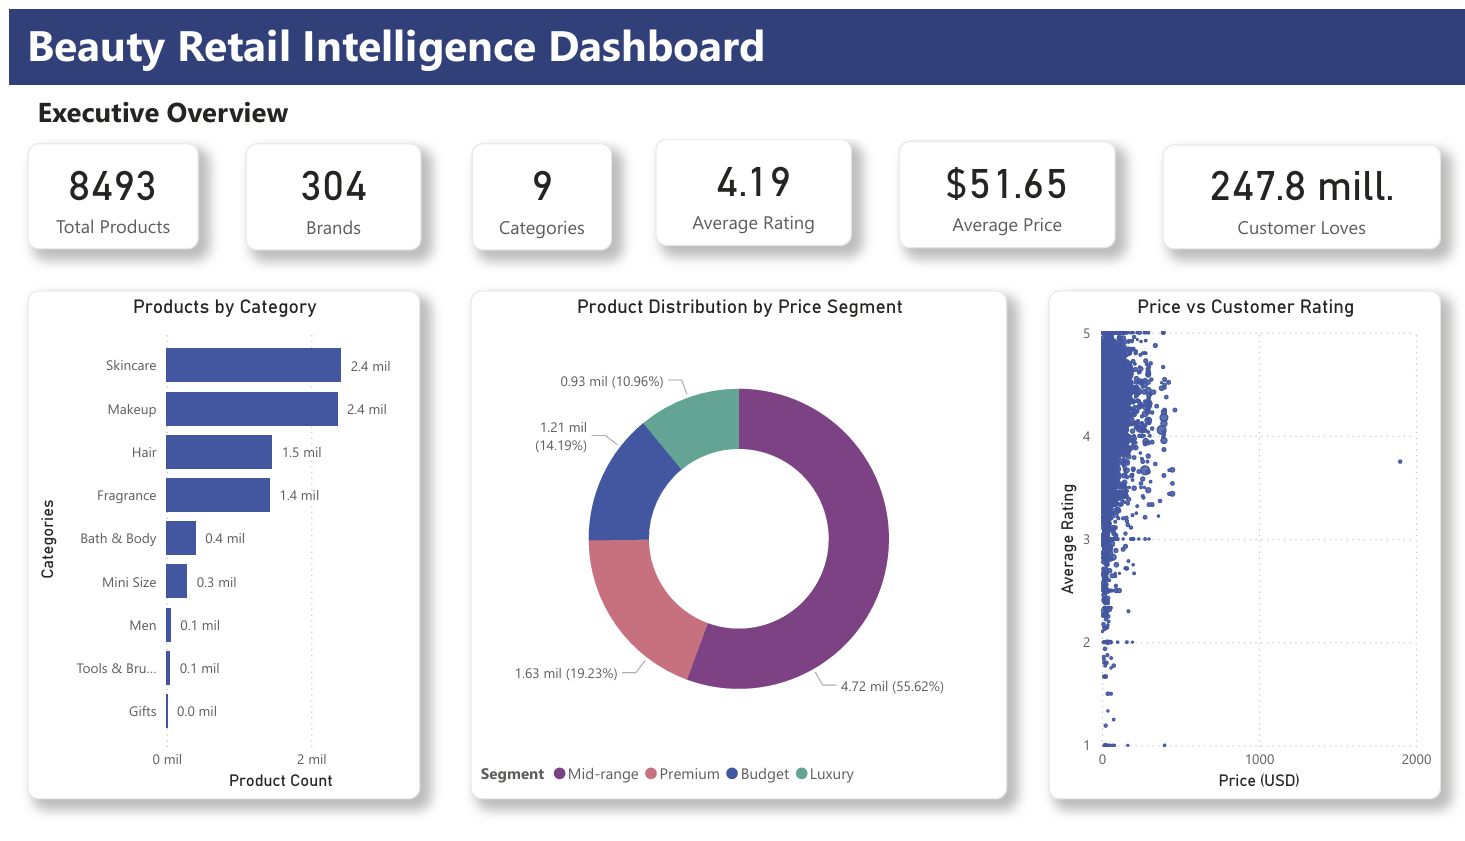

Layout of this report page (visuals, bound fields, positions):
{"tool":"powerbi","page":{"name":"Executive Overview","canvas":[1280,720],"ordinal":0},"visuals":[{"type":"card","fields":{"Values":["Count(products_engineered.product_id)"]},"box":[15.7,117,150,92.9],"z":0},{"type":"card","fields":{"Values":["Count(products_engineered.brand_name)"]},"box":[206.6,117.3,154,94],"z":1000},{"type":"card","fields":{"Values":["Count(products_engineered.primary_category)"]},"box":[404.6,117.3,123.8,93.8],"z":2000},{"type":"card","fields":{"Values":["Avg(products_engineered.rating)"]},"box":[566.3,113.3,172,94],"z":3000},{"type":"card","fields":{"Values":["Avg(products_engineered.price_usd)"]},"box":[779.1,114.8,190,94],"z":4000},{"type":"card","fields":{"Values":["Sum(products_engineered.loves_count)"]},"box":[1010,117.6,244,92],"z":5000},{"type":"barChart","title":"Products by Category","fields":{"Category":["products_engineered.primary_category"],"Y":["CountNonNull(products_engineered.product_id)"]},"box":[16,246,344,446],"z":6000},{"type":"donutChart","title":"Product Distribution by Price Segment","fields":{"Category":["products_engineered.price_segment"],"Y":["CountNonNull(products_engineered.product_id)"]},"box":[404,246,470,446],"z":7000},{"type":"scatterChart","title":"Price vs Customer Rating","fields":{"X":["products_engineered.price_usd"],"Y":["products_engineered.rating"],"Size":["Sum(products_engineered.loves_count)"]},"box":[910,246,344,446],"z":8000},{"type":"actionButton","box":[0,0,100,40],"z":9000},{"type":"textbox","box":[0,0,1280,66],"z":10000},{"type":"textbox","box":[0,66.7,1280,46.7],"z":11000}]}

Visuals, with their boxes in screenshot pixels (x1, y1, x2, y2), scaled from the page's 1280x720 canvas onto the 1465x841 screenshot:
card - Count(products_engineered.product_id): [x1=18, y1=137, x2=190, y2=245]
card - Count(products_engineered.brand_name): [x1=236, y1=137, x2=413, y2=247]
card - Count(products_engineered.primary_category): [x1=463, y1=137, x2=605, y2=247]
card - Avg(products_engineered.rating): [x1=648, y1=132, x2=845, y2=242]
card - Avg(products_engineered.price_usd): [x1=892, y1=134, x2=1109, y2=244]
card - Sum(products_engineered.loves_count): [x1=1156, y1=137, x2=1435, y2=245]
"Products by Category" barChart: [x1=18, y1=287, x2=412, y2=808]
"Product Distribution by Price Segment" donutChart: [x1=462, y1=287, x2=1000, y2=808]
"Price vs Customer Rating" scatterChart: [x1=1042, y1=287, x2=1435, y2=808]
actionButton: [x1=0, y1=0, x2=114, y2=47]
textbox: [x1=0, y1=0, x2=1464, y2=77]
textbox: [x1=0, y1=78, x2=1464, y2=132]
